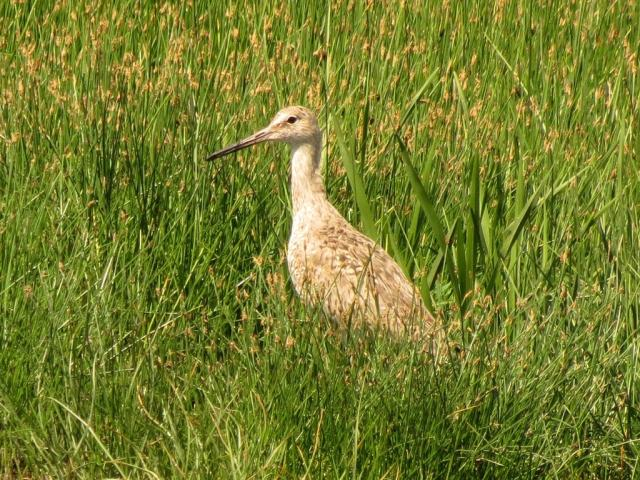Bird: (203, 97, 452, 377)
